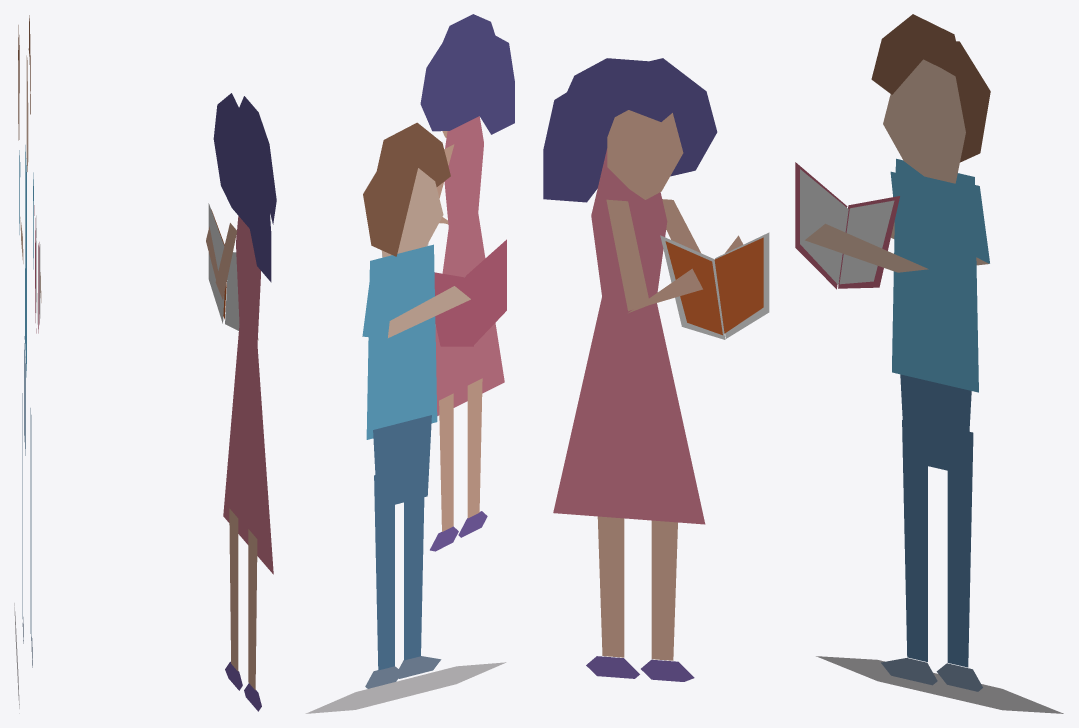
File: twoPersons.glb
3 views of the same model, side by side, from view 1: azimuth 30°, elevation 25°; view 2: azimuth 150°, elevation 25°; view 3: azimuth 270°, elevation 25° (orthographic). The views are drawn at different scales.
Visible parts, largest first — view 1: Dress, Hair_Back, Leg_Back, Hair_Front, Leg_Front, Book_Right_Cover, Book_Left_Cover, Arm_Back_Upper, Leg_Front.001, Shirt; view 2: Shirt, Dress, Hair_Back, Hair_Back.001, Pants_Top, Leg_Back.001, Leg_Front.001, Floor_Shadow.003, Book_Near_Cover, Face.001, Hair_Front.001, Book_Far_Cover (+9 smaller); view 3: Dress, Shirt, Hair_Back, Face.001, Hair_Front, Leg_Front.001, Face, Pants_Top, Leg_Back.001, Hair_Front.001, Leg_Front, Leg_Back (+19 smaller).
Part boxes in pixels (x1,y1,x2,y2): Dress: [223, 216, 273, 574]; Hair_Back: [213, 93, 271, 282]; Leg_Back: [229, 508, 238, 671]; Hair_Front: [239, 96, 276, 224]; Leg_Front: [248, 529, 257, 690]; Book_Right_Cover: [208, 203, 224, 323]; Book_Left_Cover: [225, 252, 239, 330]; Arm_Back_Upper: [215, 223, 237, 299]; Leg_Front.001: [30, 408, 31, 640]; Shirt: [25, 145, 26, 377]; Shirt: [366, 244, 437, 439]; Dress: [435, 116, 504, 415]; Hair_Back: [420, 30, 514, 134]; Hair_Back.001: [363, 152, 421, 256]; Pants_Top: [373, 415, 431, 504]; Leg_Back.001: [374, 470, 394, 670]; Leg_Front.001: [404, 497, 424, 660]; Floor_Shadow.003: [305, 662, 506, 713]; Book_Near_Cover: [465, 239, 506, 344]; Face.001: [381, 168, 443, 257]; Hair_Front.001: [377, 122, 450, 186]; Book_Far_Cover: [434, 272, 473, 346]; Dress: [553, 148, 705, 524]; Shirt: [892, 158, 978, 392]; Hair_Back: [543, 58, 717, 202]; Face.001: [883, 59, 965, 183]; Hair_Front: [552, 58, 682, 154]; Leg_Front.001: [902, 420, 927, 661]; Face: [607, 110, 683, 199]; Pants_Top: [900, 374, 971, 474]; Leg_Back.001: [947, 432, 973, 667]; Hair_Front.001: [871, 14, 964, 94]; Leg_Front: [597, 516, 624, 657]; Leg_Back: [651, 520, 677, 660].
Size of the model in its own units: 3.86 by 14.45 by 10.01.
